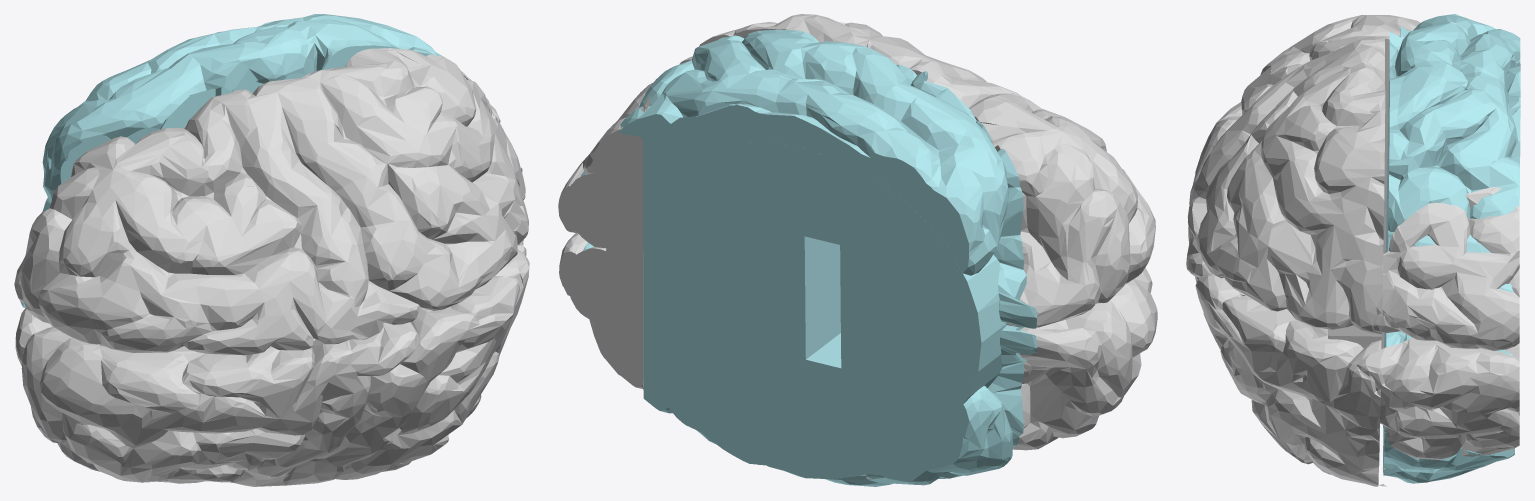
Rendered from tinker.obj.
The picture shows the model from 3 angles, left to right: view 1: azimuth 30°, elevation 25°; view 2: azimuth 150°, elevation 25°; view 3: azimuth 270°, elevation 25°; orthographic projection. The views are drawn at different scales.
Visible parts, largest first — view 1: group_0_16448250, group_0_11593967; view 2: group_0_11593967, group_0_16448250; view 3: group_0_16448250, group_0_11593967.
Part boxes in pixels (left/top/right/bottom): group_0_16448250: left=14, top=48, right=529, bottom=486; group_0_11593967: left=20, top=14, right=443, bottom=307; group_0_11593967: left=581, top=29, right=1037, bottom=486; group_0_16448250: left=558, top=14, right=1157, bottom=479; group_0_16448250: left=1186, top=15, right=1519, bottom=486; group_0_11593967: left=1383, top=14, right=1520, bottom=483.
Bounding box in the file's own units: 51.47 × 40.97 × 30.6.
